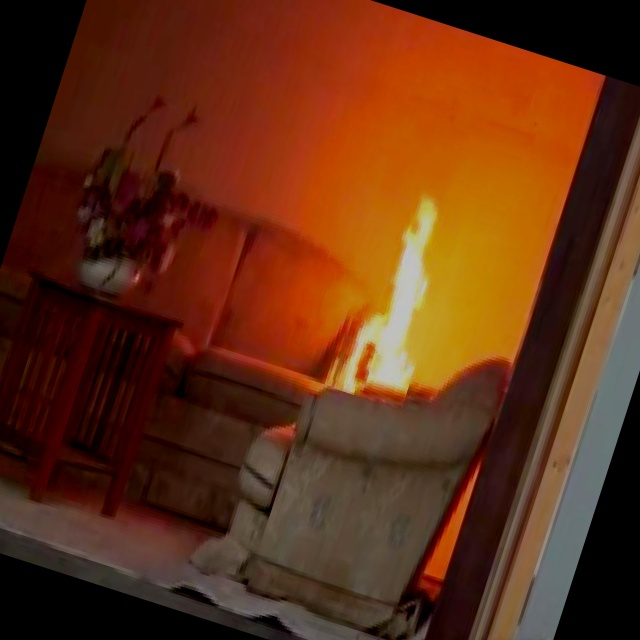fire: (335, 185, 483, 395)
